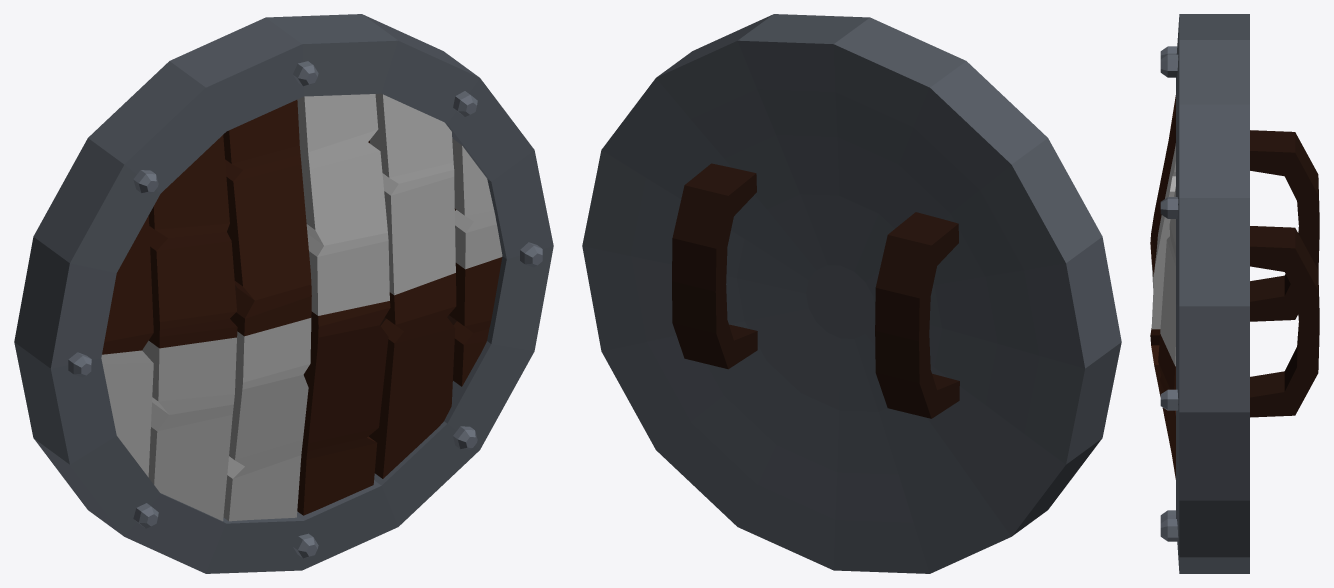
The model's file is Shield_Round_2.glb.
3 views of the same model, side by side, from view 1: azimuth 30°, elevation 25°; view 2: azimuth 150°, elevation 25°; view 3: azimuth 270°, elevation 25° (orthographic). The views are drawn at different scales.
Parts seen in each view (by area): view 1: Shield_Round_2; view 2: Shield_Round_2; view 3: Shield_Round_2.
Part boxes in pixels (bbox=[...]): Shield_Round_2: bbox=[14, 14, 553, 573]; Shield_Round_2: bbox=[582, 14, 1121, 573]; Shield_Round_2: bbox=[1150, 14, 1319, 573].
Size of the model in its own units: 200 by 200 by 60.37.
